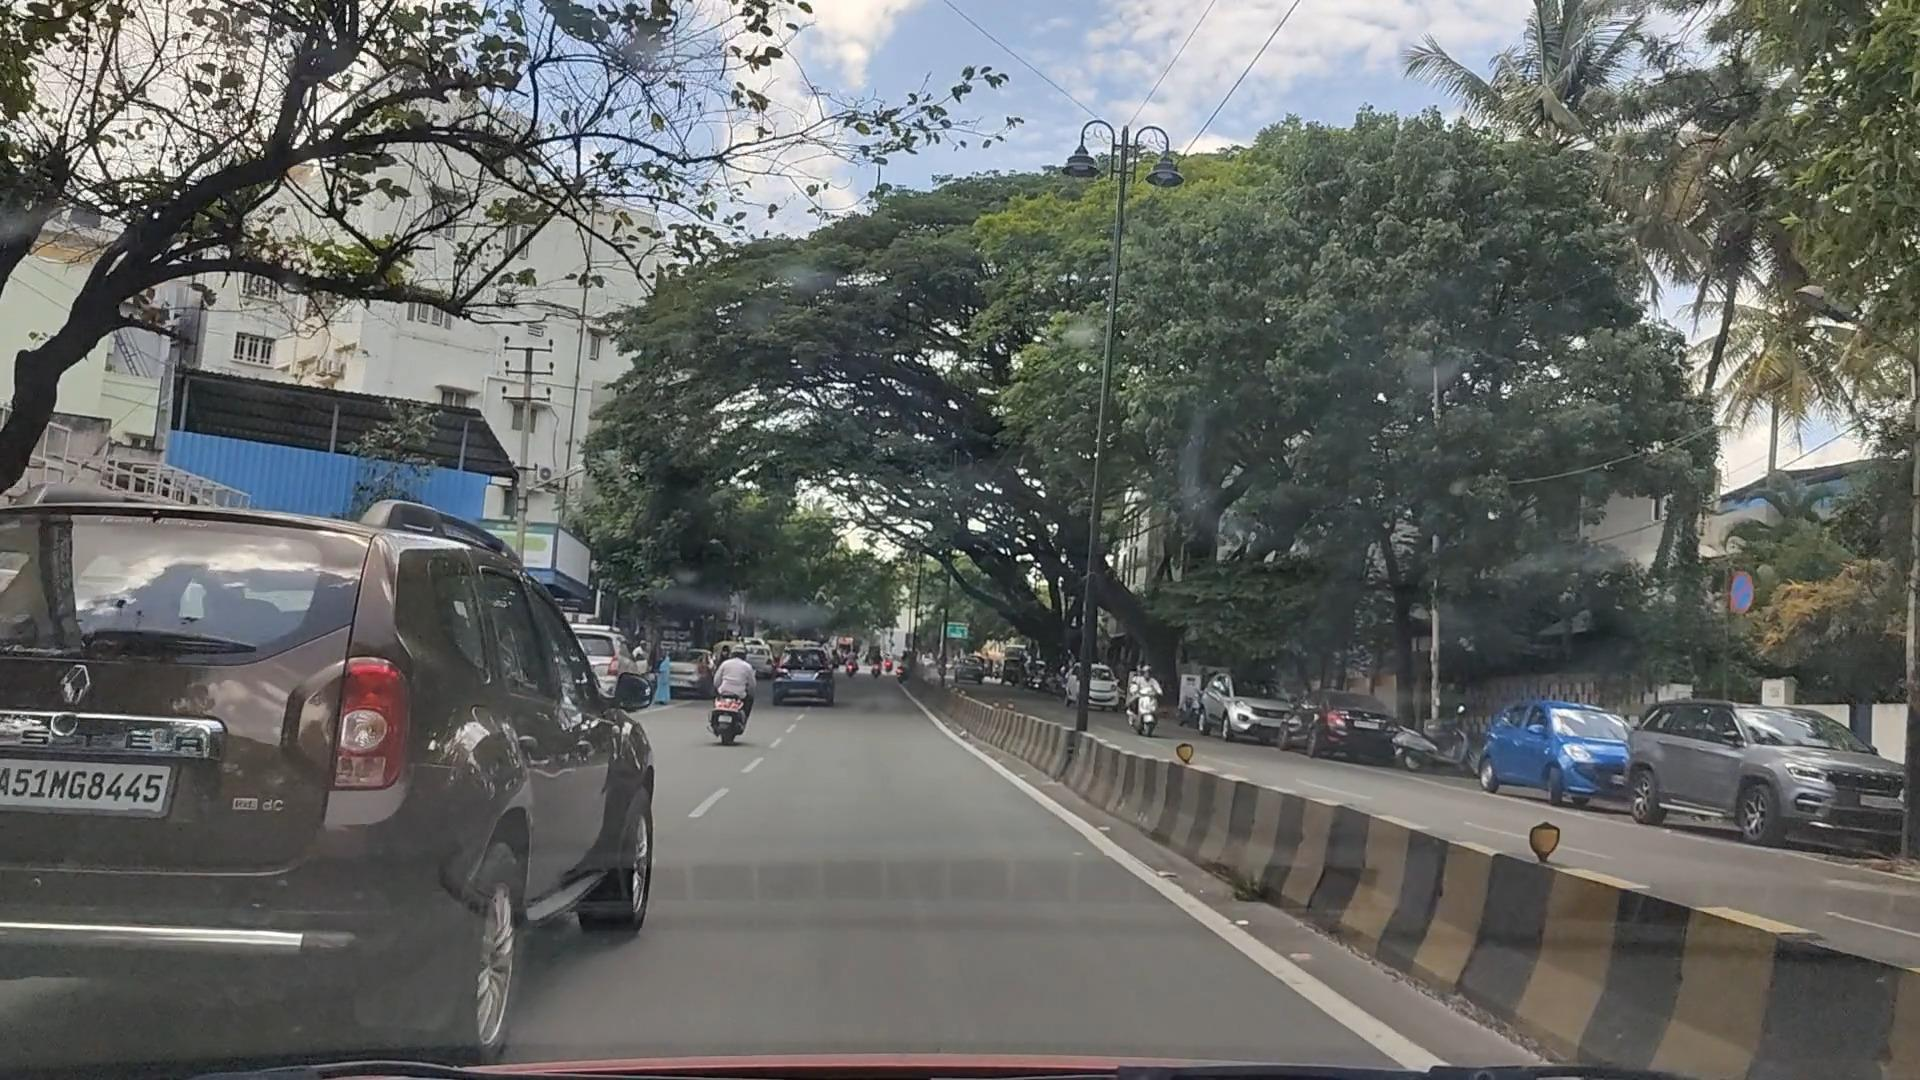LMV: (36, 483, 678, 1067)
